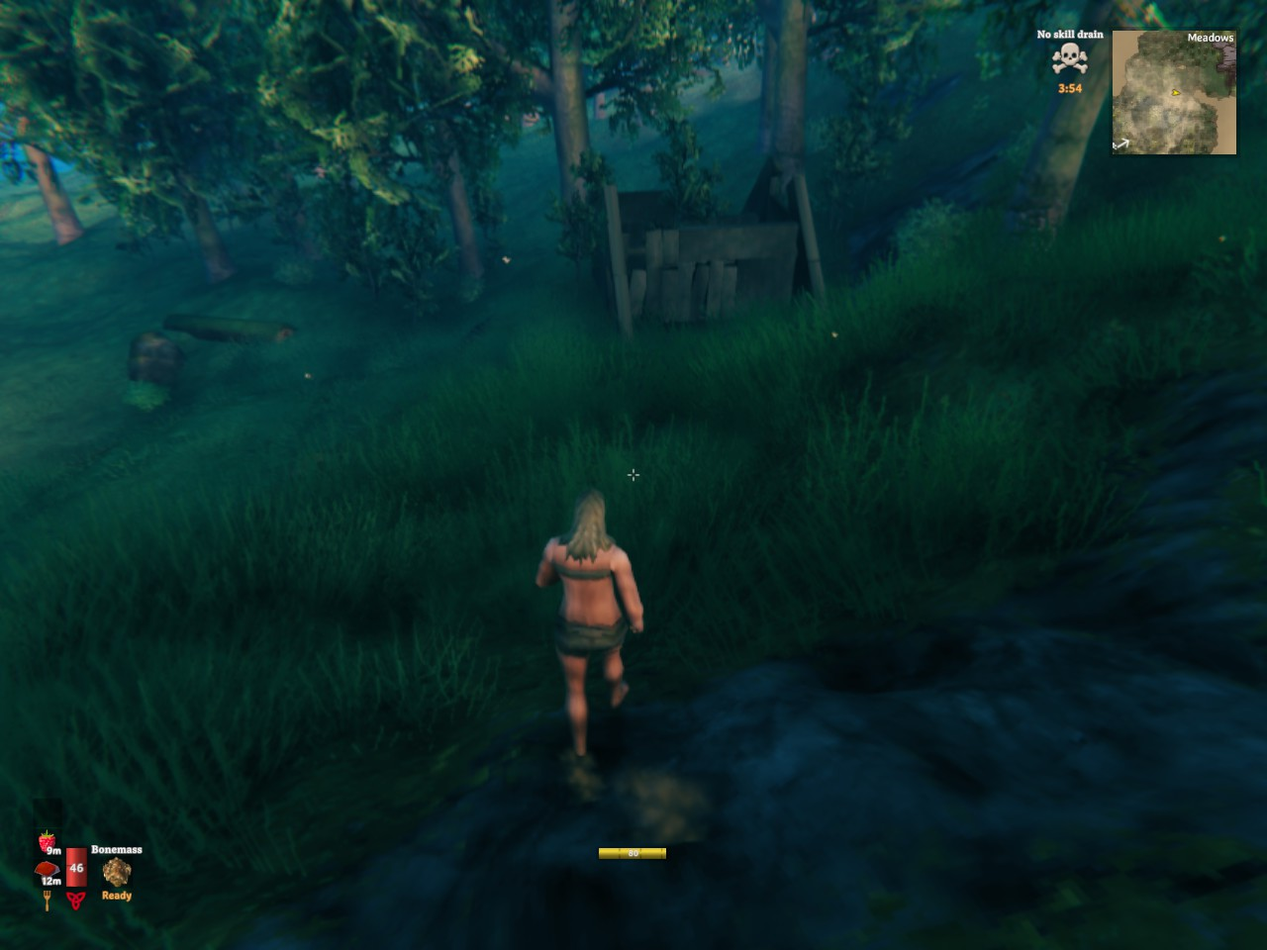House: (575, 158, 845, 340)
